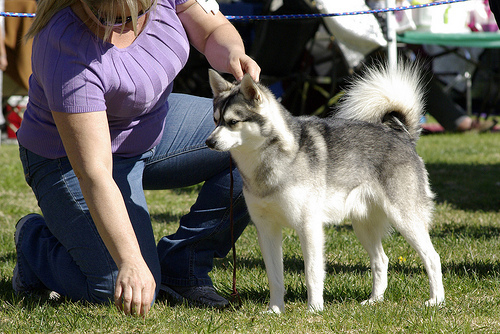dog: (207, 65, 446, 314)
